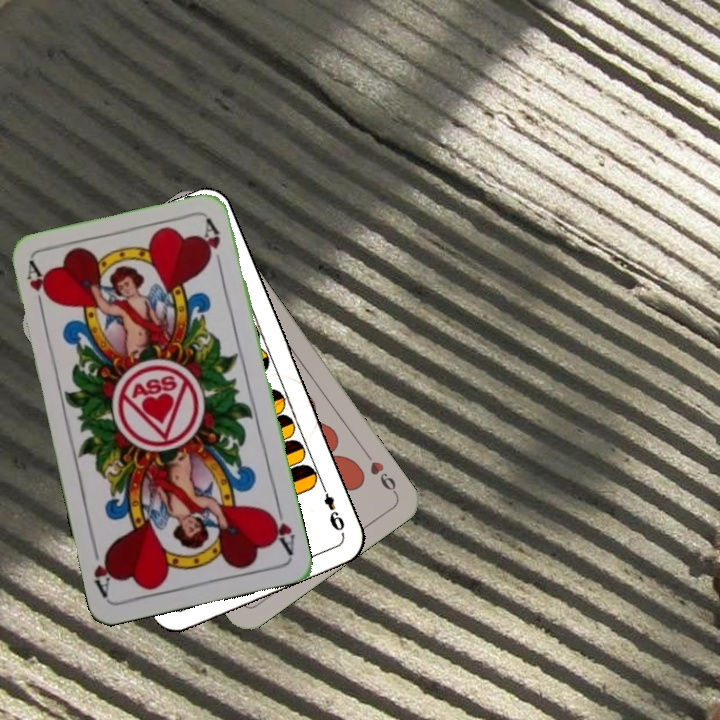E9: (317, 479, 348, 534)
H9: (359, 446, 400, 497)
HA: (264, 499, 298, 557), (23, 258, 53, 317)
